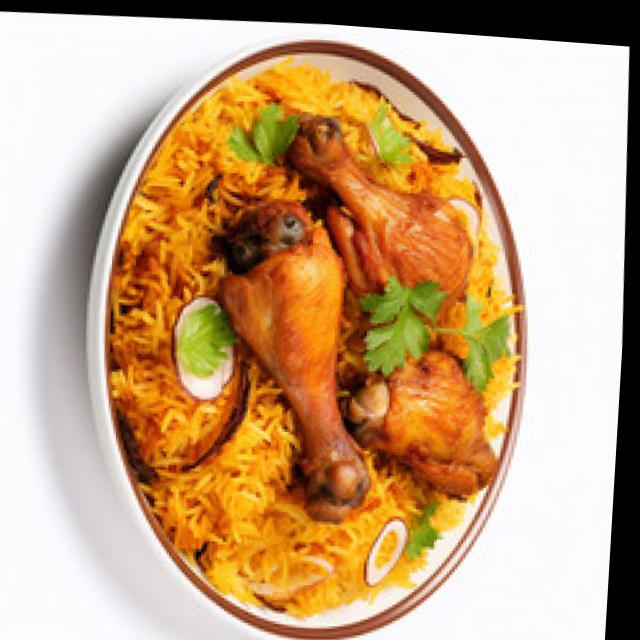BIRIYANI: (97, 43, 524, 639)
